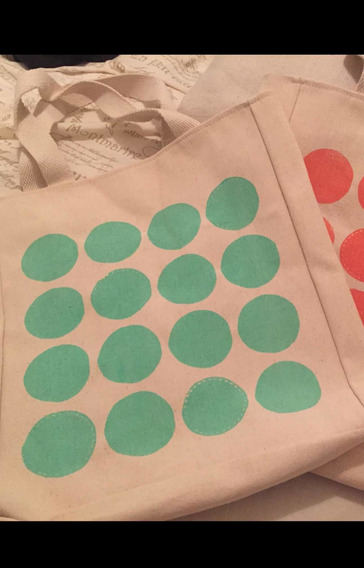cartera: (5, 75, 364, 522)
